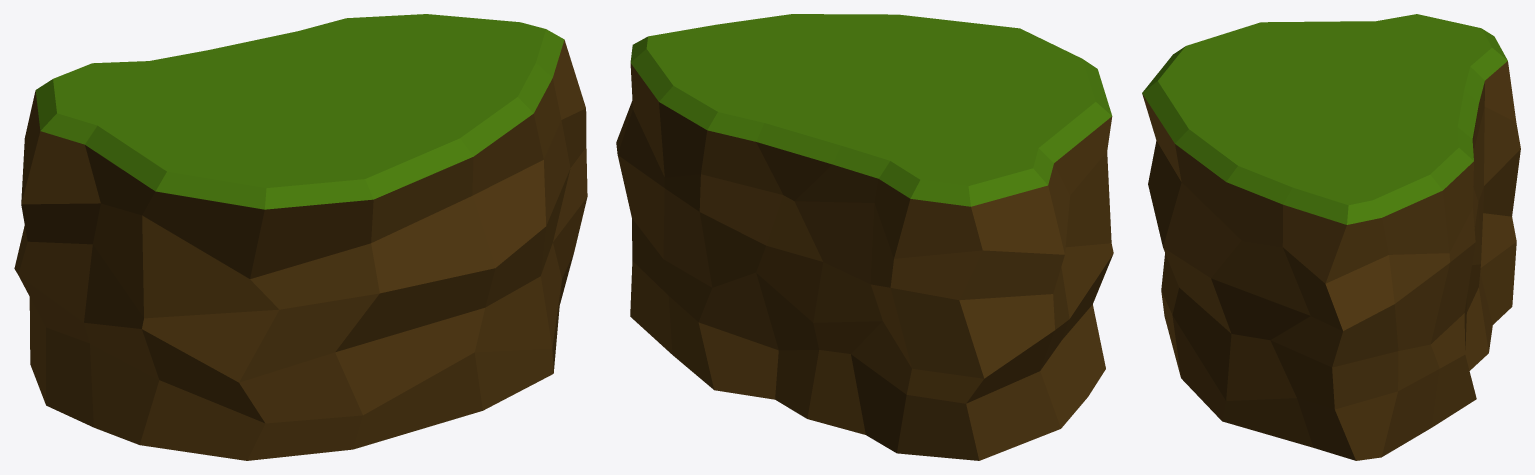
File: LandExtra_2.fbx
3 renders of one model, left to right at view 1: azimuth 30°, elevation 25°; view 2: azimuth 150°, elevation 25°; view 3: azimuth 270°, elevation 25°, orthographic. The views are drawn at different scales.
Visible parts, largest first — view 1: Plane.003; view 2: Plane.003; view 3: Plane.003.
Part boxes in pixels (x1,y1,x2,y2): Plane.003: (14,14,587,460); Plane.003: (616,14,1113,460); Plane.003: (1142,14,1520,460).
Size of the model in its own units: 863 by 459 by 615.
